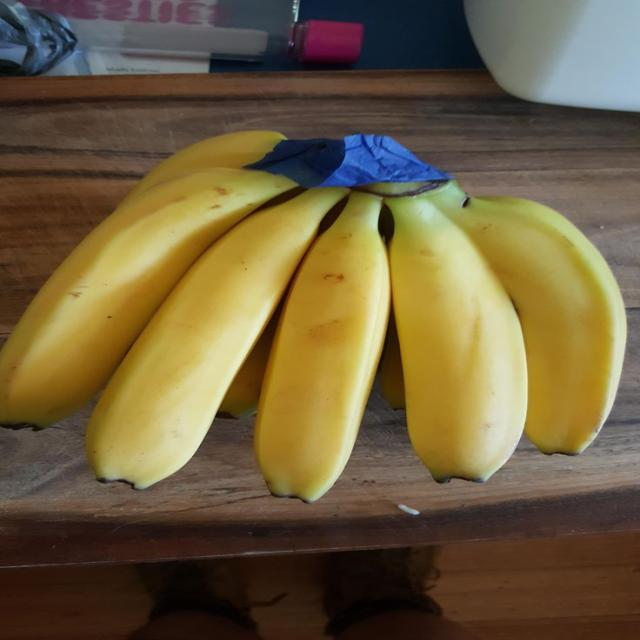unpeal banana: (86, 188, 346, 488), (0, 168, 295, 428), (436, 184, 626, 454), (255, 193, 389, 502), (387, 184, 526, 481), (124, 131, 285, 201), (219, 312, 279, 418), (379, 313, 405, 409)
